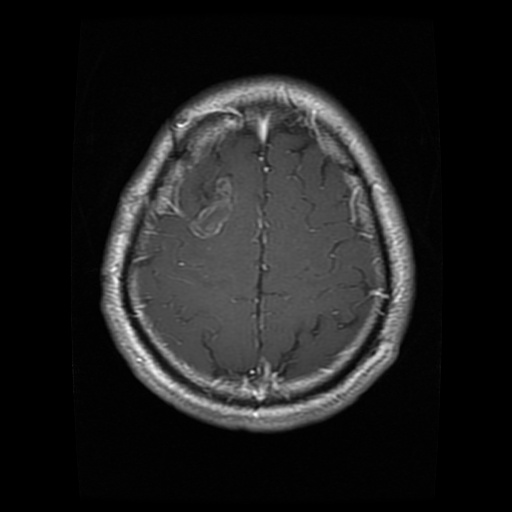glioma: (188, 172, 235, 240)
